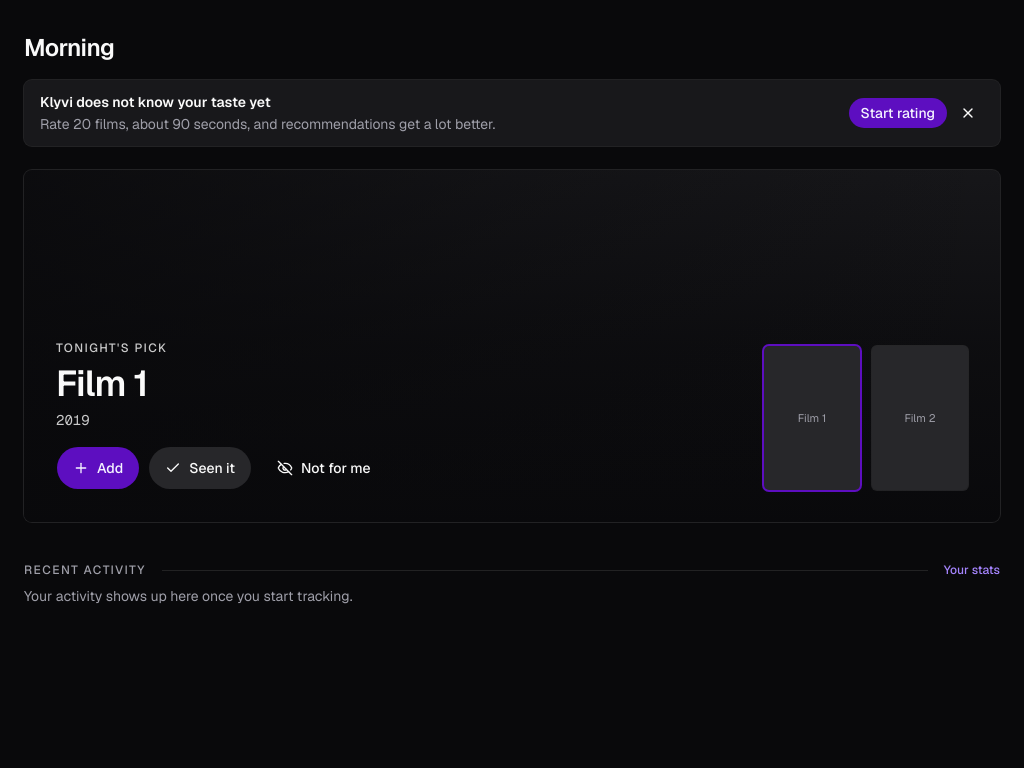
Test: HomeClient › the hero › hides a pick that is not for you
Expected: the element "Tonight's pick" is shown, [24,170,1000,522]
Click the button "Not for me" at (324, 468), box [260,446,388,490]
Wait 5000 ms
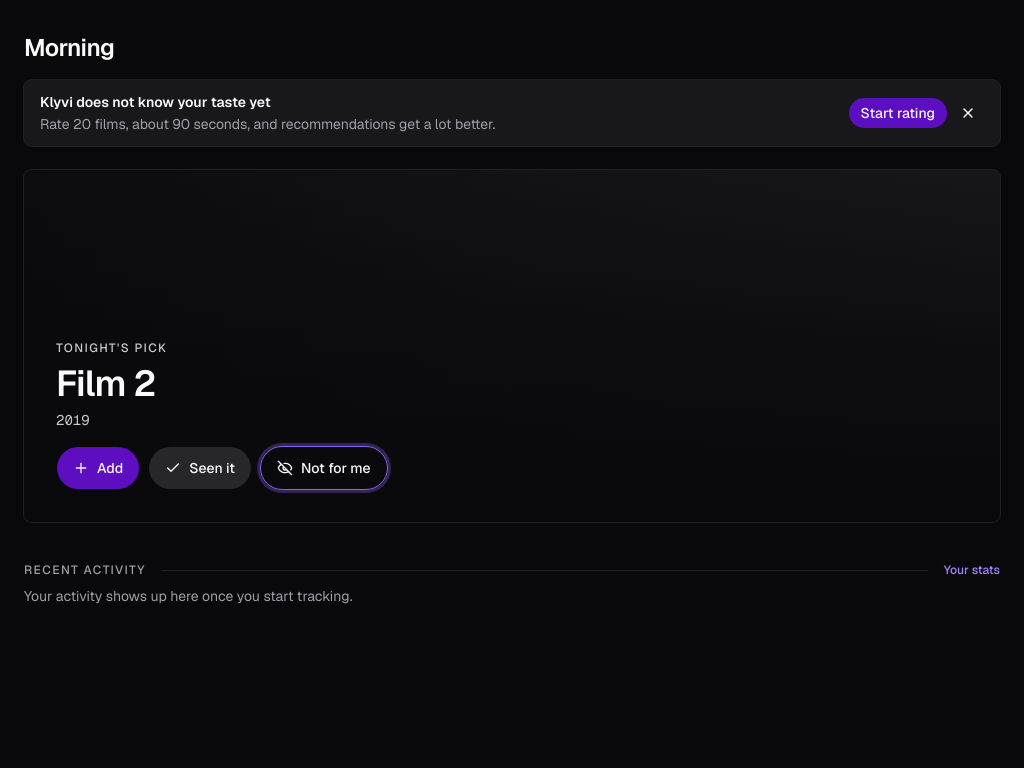
Now the heading "Film 2" is shown, box [56,360,155,407]
